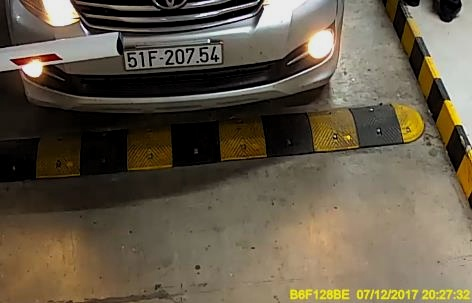plate: (122, 44, 225, 72)
